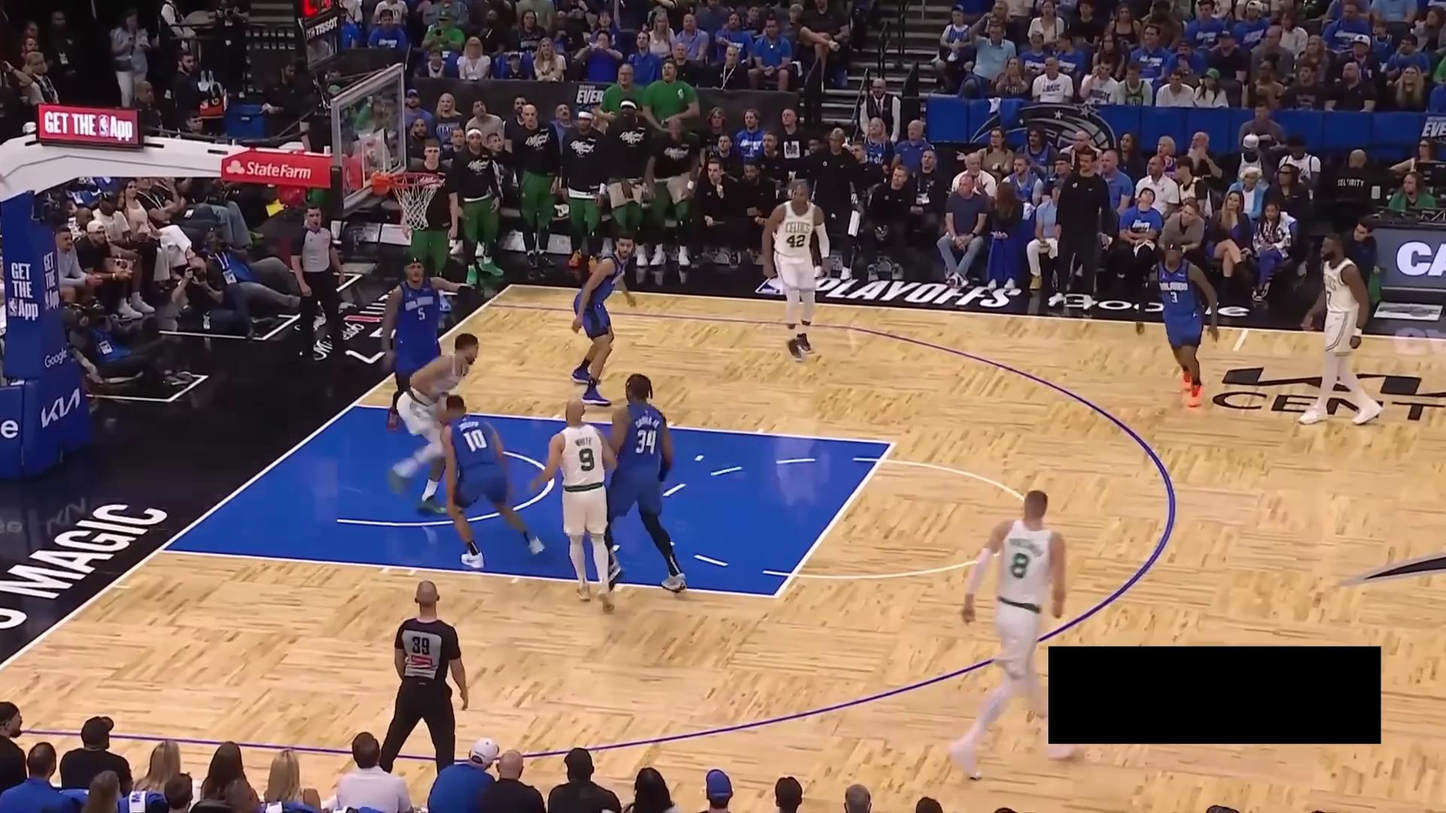ball: (434, 404, 462, 428)
number: (1009, 551, 1033, 579), (634, 428, 658, 456), (460, 429, 487, 451), (576, 447, 597, 472), (786, 234, 806, 248), (417, 307, 426, 321), (1325, 290, 1333, 305), (1170, 291, 1178, 303)
player: (950, 480, 1084, 780), (519, 395, 621, 614), (434, 388, 550, 569), (596, 372, 689, 594), (1299, 220, 1388, 430), (381, 255, 476, 427), (756, 173, 835, 362), (1130, 241, 1218, 406), (565, 229, 642, 409)
player-in-possession: (383, 328, 484, 520)
referee: (376, 573, 468, 787), (286, 198, 355, 371)
rim: (390, 170, 447, 191)
